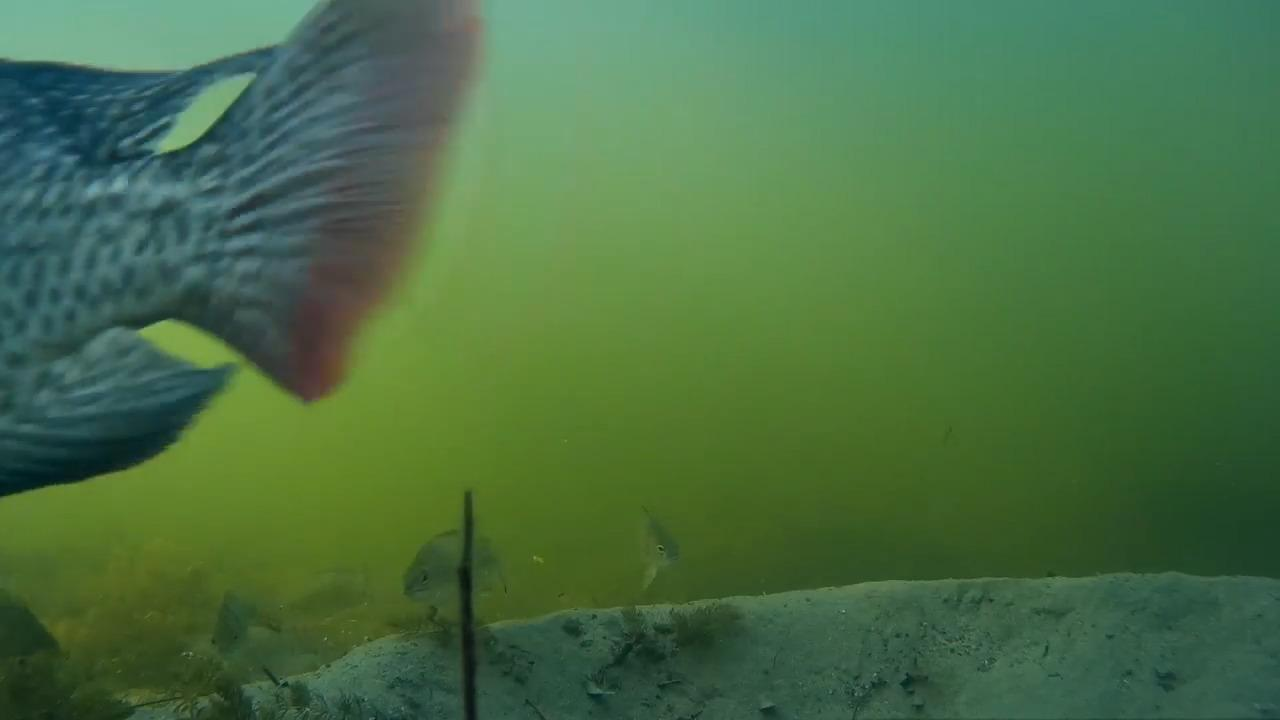Tilapia: (394, 518, 525, 642), (607, 498, 708, 612)
